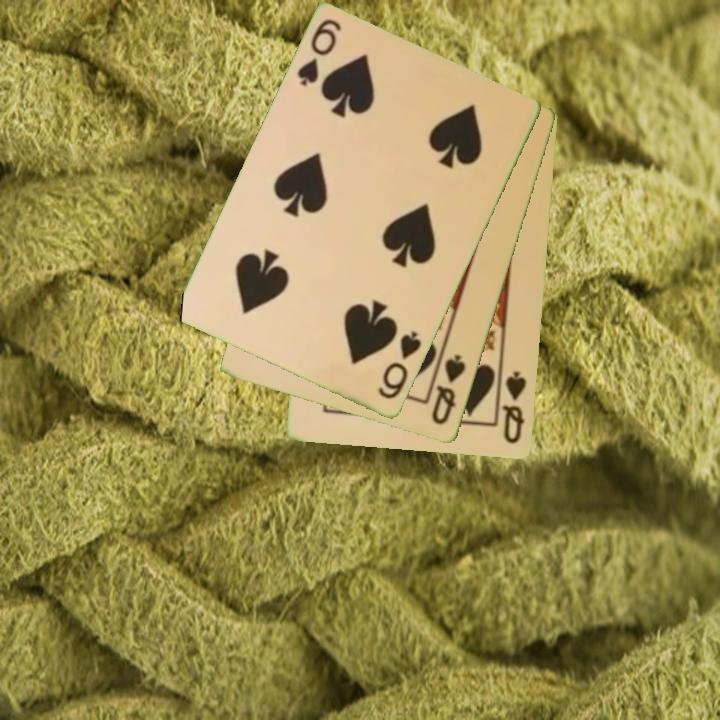6s: (293, 16, 345, 90), (375, 328, 425, 403)
Qs: (428, 351, 469, 428), (499, 368, 530, 447)
